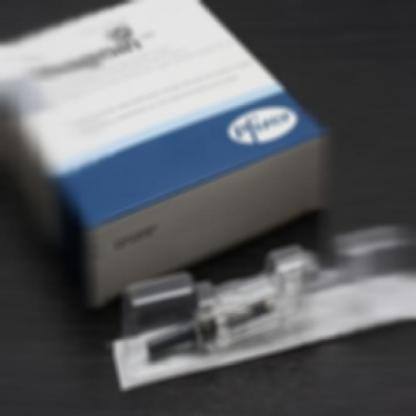-: (0, 0, 326, 303)
